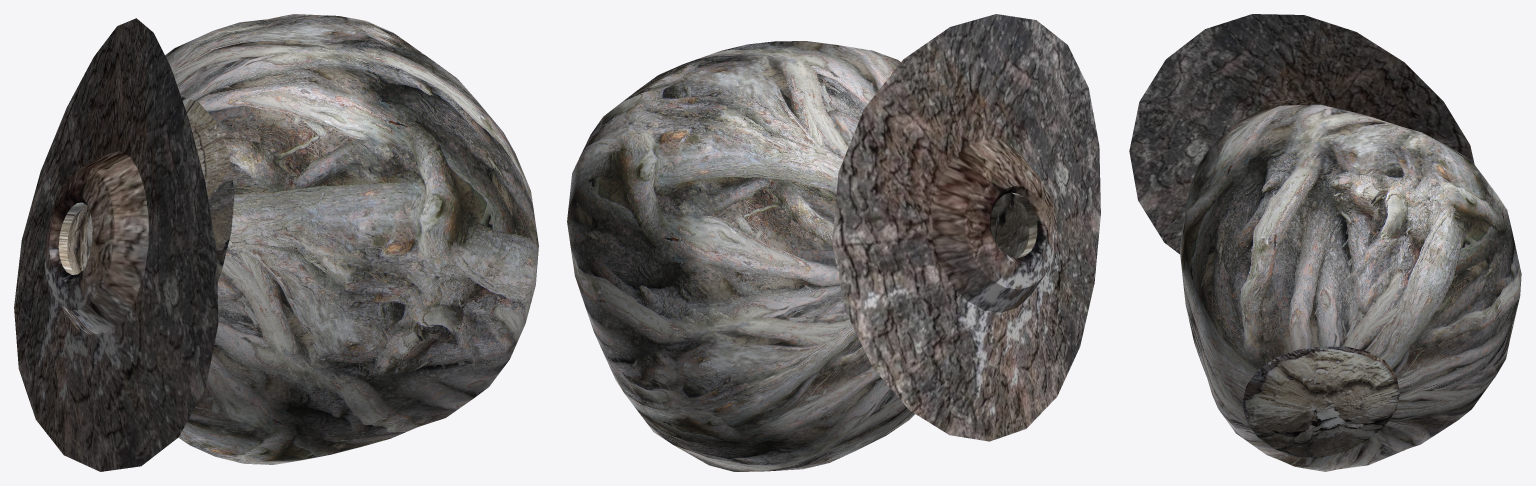
Rendered from Tree_innerPart.fbx.
The picture shows the model from 3 angles, left to right: view 1: azimuth 30°, elevation 25°; view 2: azimuth 150°, elevation 25°; view 3: azimuth 270°, elevation 25°; orthographic projection. The views are drawn at different scales.
Visible parts, largest first — view 1: tree_inwards; view 2: tree_inwards; view 3: tree_inwards.
Part boxes in pixels (x1,y1,x2,y2): tree_inwards: [14, 14, 538, 471]; tree_inwards: [567, 14, 1100, 471]; tree_inwards: [1129, 14, 1521, 471].
Size of the model in its own units: 2291 by 2327 by 2207.
